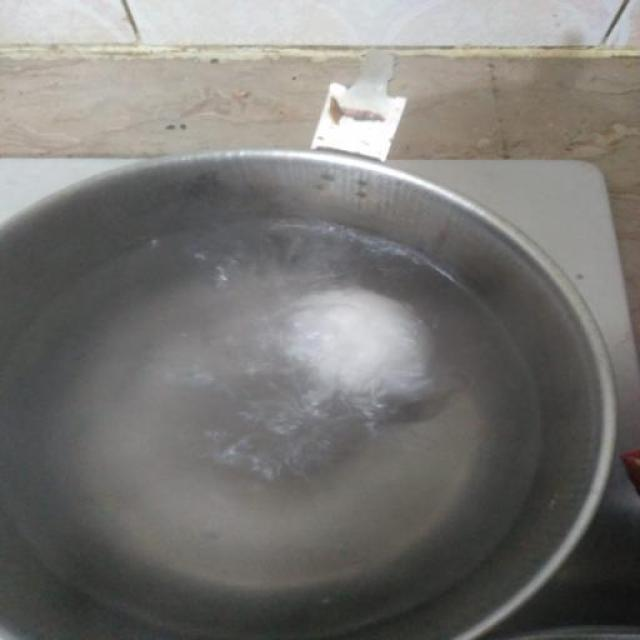telur: (283, 291, 419, 401)
